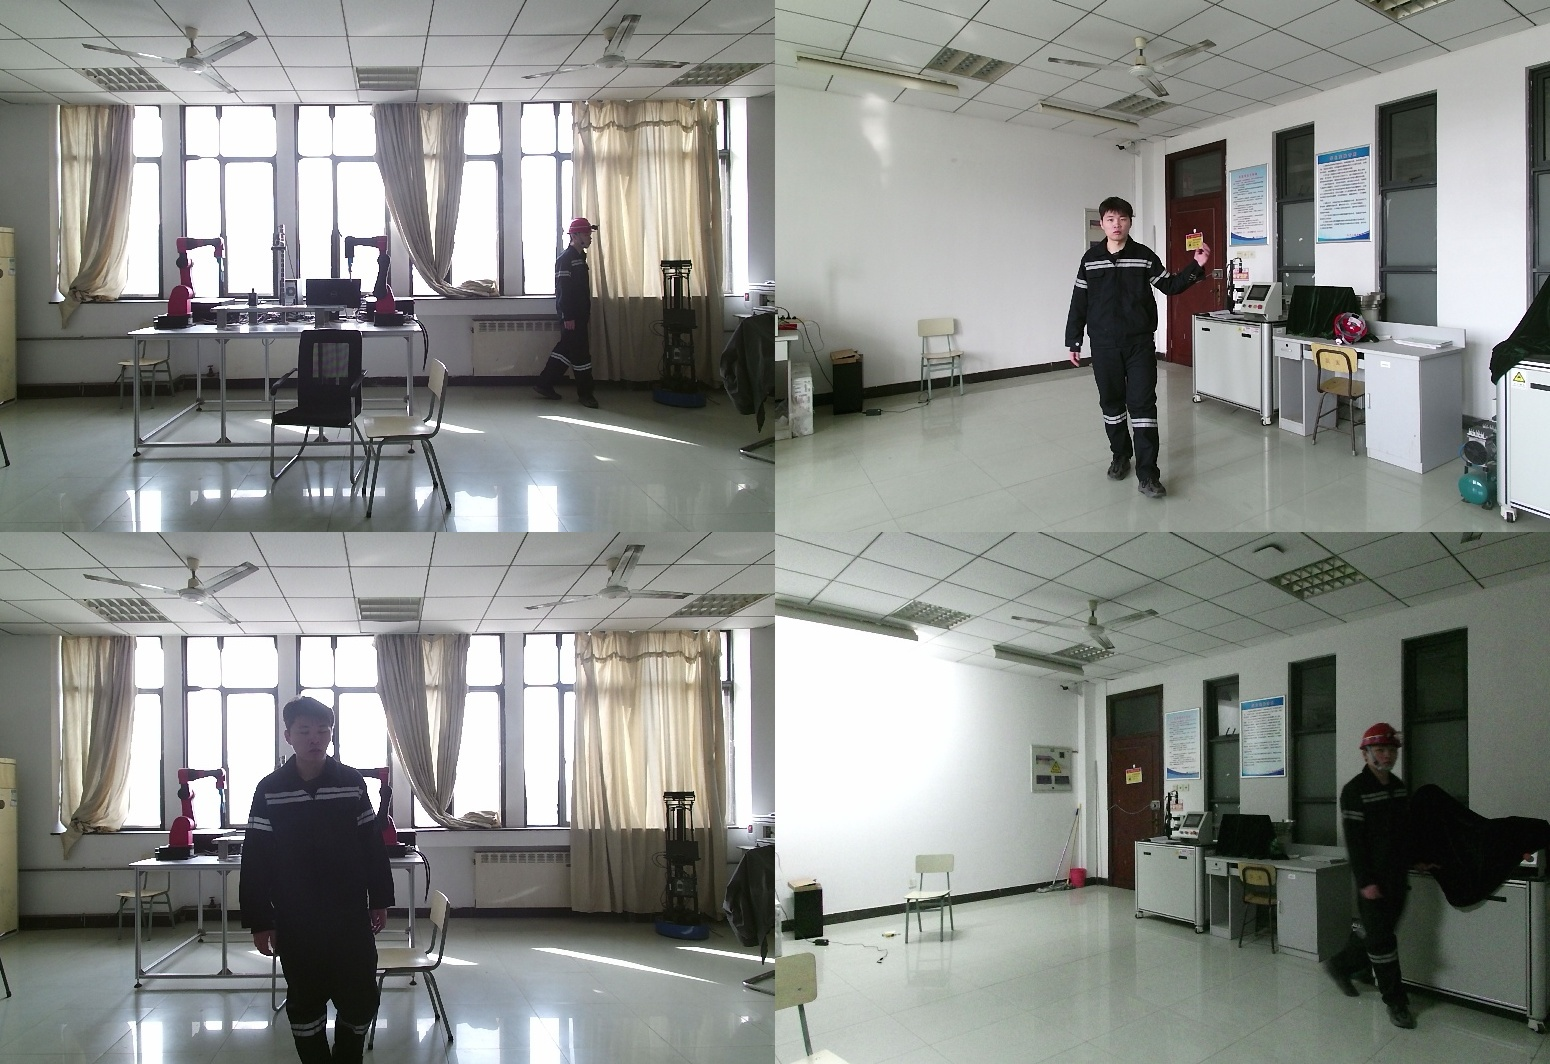person: (244, 700, 401, 1064), (1047, 197, 1231, 492), (1320, 726, 1431, 1032), (538, 217, 604, 411)
